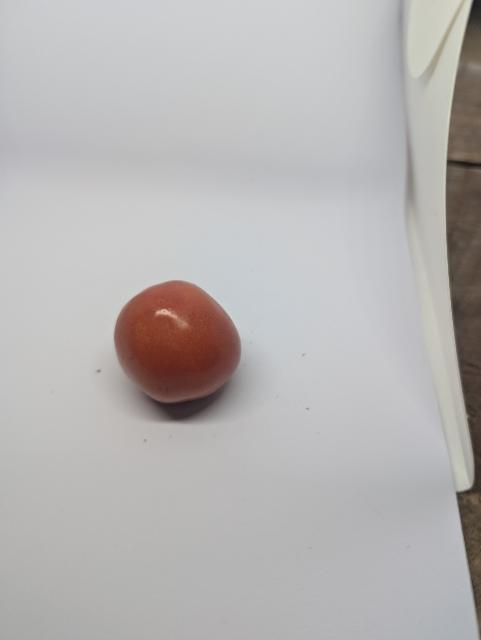red: (109, 275, 252, 418)
